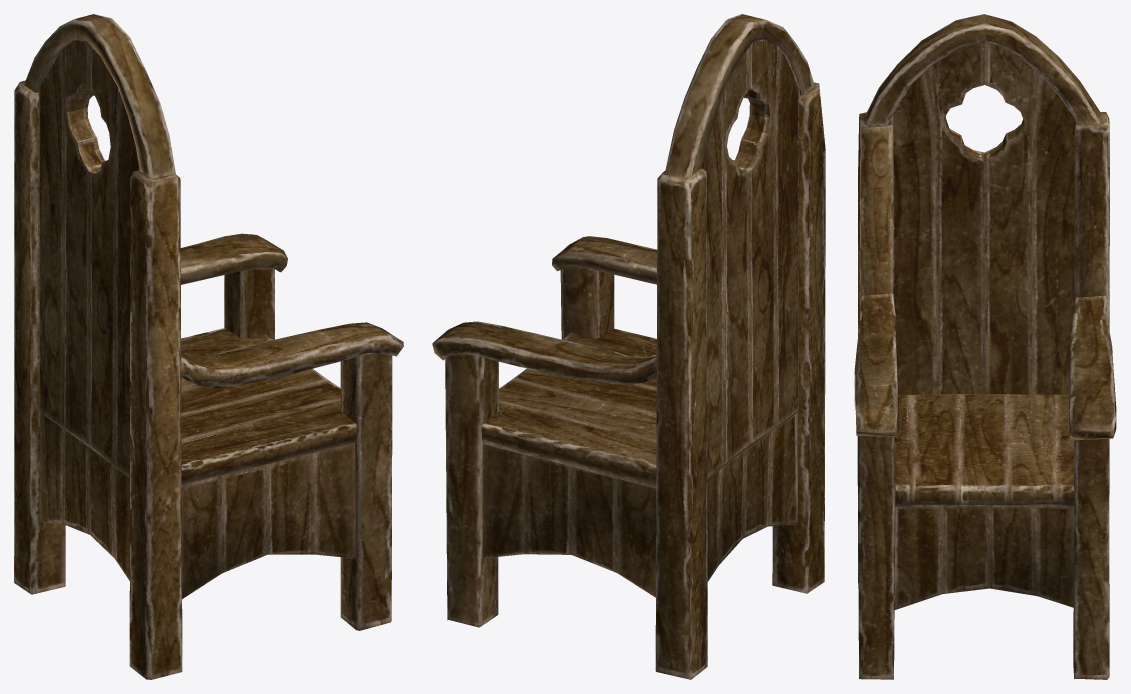
The model's file is Throne.fbx.
3 views of the same model, side by side, from view 1: azimuth 30°, elevation 25°; view 2: azimuth 150°, elevation 25°; view 3: azimuth 270°, elevation 25° (orthographic). The views are drawn at different scales.
Parts seen in each view (by area): view 1: defaultMaterial.003; view 2: defaultMaterial.003; view 3: defaultMaterial.003.
Part boxes in pixels (box(x1,y1,x2,y2)): defaultMaterial.003: box(14, 14, 403, 679); defaultMaterial.003: box(432, 14, 825, 679); defaultMaterial.003: box(854, 14, 1116, 679).
Size of the model in its own units: 88.42 by 200 by 84.57.
